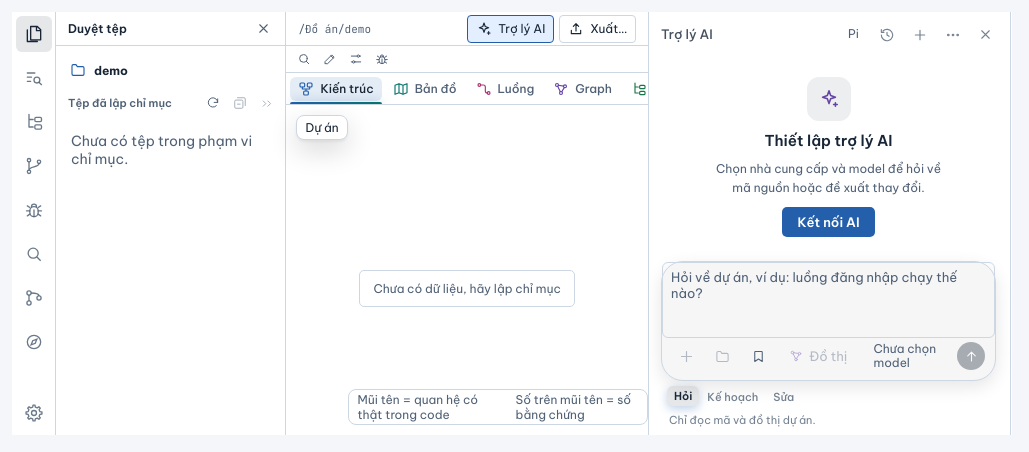
Test: WorkspaceScreen › mục Tham quan của thanh hoạt động mở panel và nạp chuyến tham quan
Click the button named "Tham quan".
click(34, 342)  # box [16, 324, 52, 360]
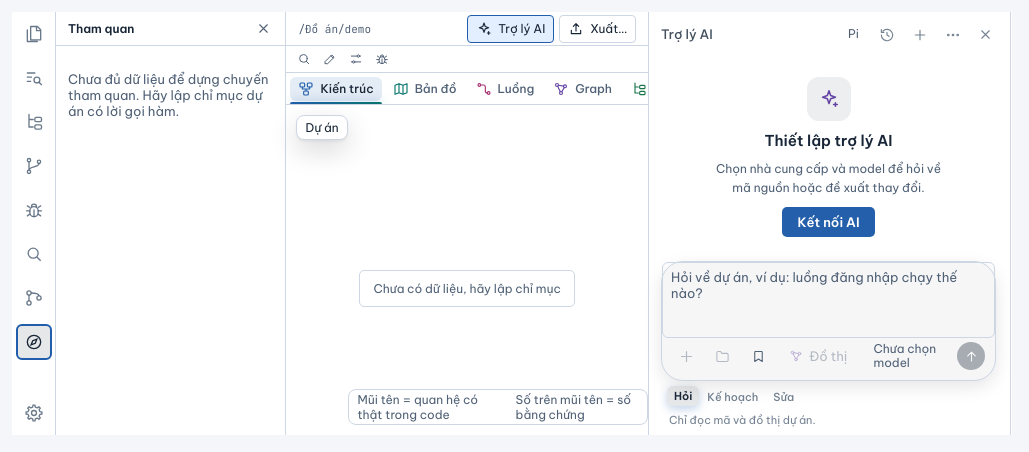
expect the text "Chưa đủ dữ liệu" is shown: met, box [68, 71, 268, 119]
